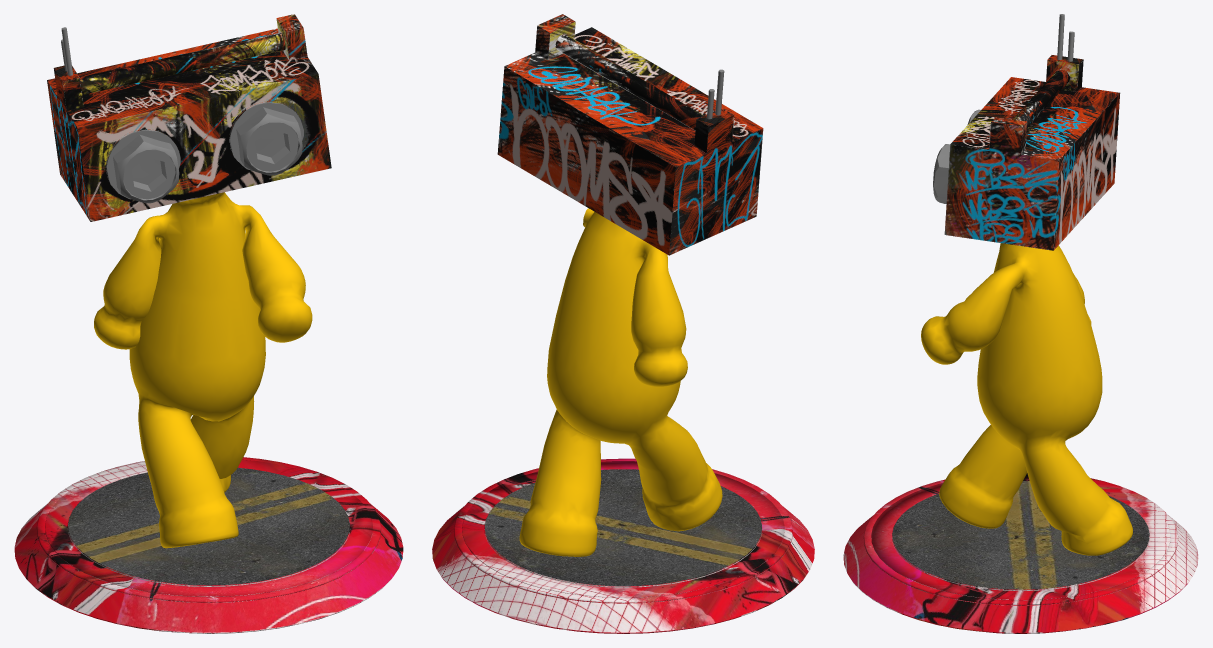
The picture shows the model from 3 angles, left to right: view 1: azimuth 30°, elevation 25°; view 2: azimuth 150°, elevation 25°; view 3: azimuth 270°, elevation 25°; orthographic projection. The views are drawn at different scales.
Visible parts, largest first — view 1: BBody; view 2: BBody; view 3: BBody.
Part boxes in pixels (x1,y1,x2,y2): BBody: (14,14,403,633); BBody: (432,14,814,633); BBody: (843,14,1198,633).
Size of the model in its own units: 1.45 by 2.2 by 1.45.
Materials: 5 (3 with a texture image).
